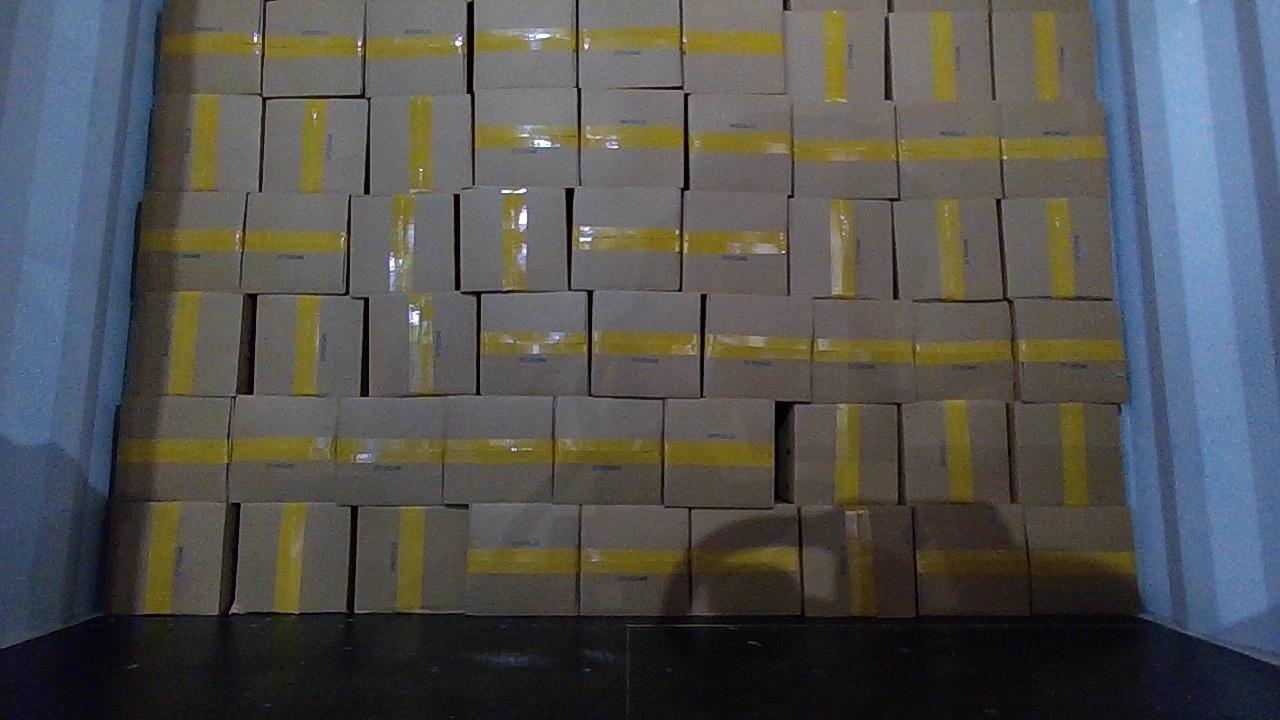carton: (105, 501, 237, 615), (126, 291, 254, 397), (232, 503, 351, 613), (801, 505, 916, 617), (466, 503, 577, 614), (1025, 506, 1139, 614), (689, 506, 802, 614), (915, 506, 1029, 613), (113, 396, 230, 500), (780, 405, 898, 507), (1011, 402, 1126, 506), (227, 395, 338, 502), (1012, 300, 1127, 403), (336, 397, 445, 505), (665, 400, 774, 508), (703, 294, 813, 401), (443, 396, 553, 503), (581, 505, 687, 615), (354, 508, 467, 611), (591, 290, 700, 396), (554, 397, 663, 503), (459, 186, 569, 291), (1000, 198, 1114, 298), (368, 292, 478, 395), (891, 199, 1003, 300), (902, 400, 1011, 503), (570, 187, 680, 289), (133, 192, 245, 292), (252, 295, 364, 395), (681, 190, 788, 293), (348, 195, 456, 297), (480, 292, 588, 394), (240, 194, 349, 293), (149, 95, 262, 190), (813, 299, 916, 403), (788, 198, 894, 297), (793, 100, 898, 198), (369, 95, 473, 193), (475, 89, 578, 187), (897, 102, 1002, 198), (1002, 101, 1107, 197), (688, 95, 790, 193), (262, 98, 367, 193), (912, 303, 1014, 400), (580, 91, 683, 187), (366, 0, 468, 96), (785, 9, 887, 104), (157, 0, 261, 93), (682, 0, 785, 92), (889, 11, 993, 102), (264, 0, 362, 96), (991, 11, 1095, 101), (578, 0, 682, 88), (473, 0, 576, 88)
